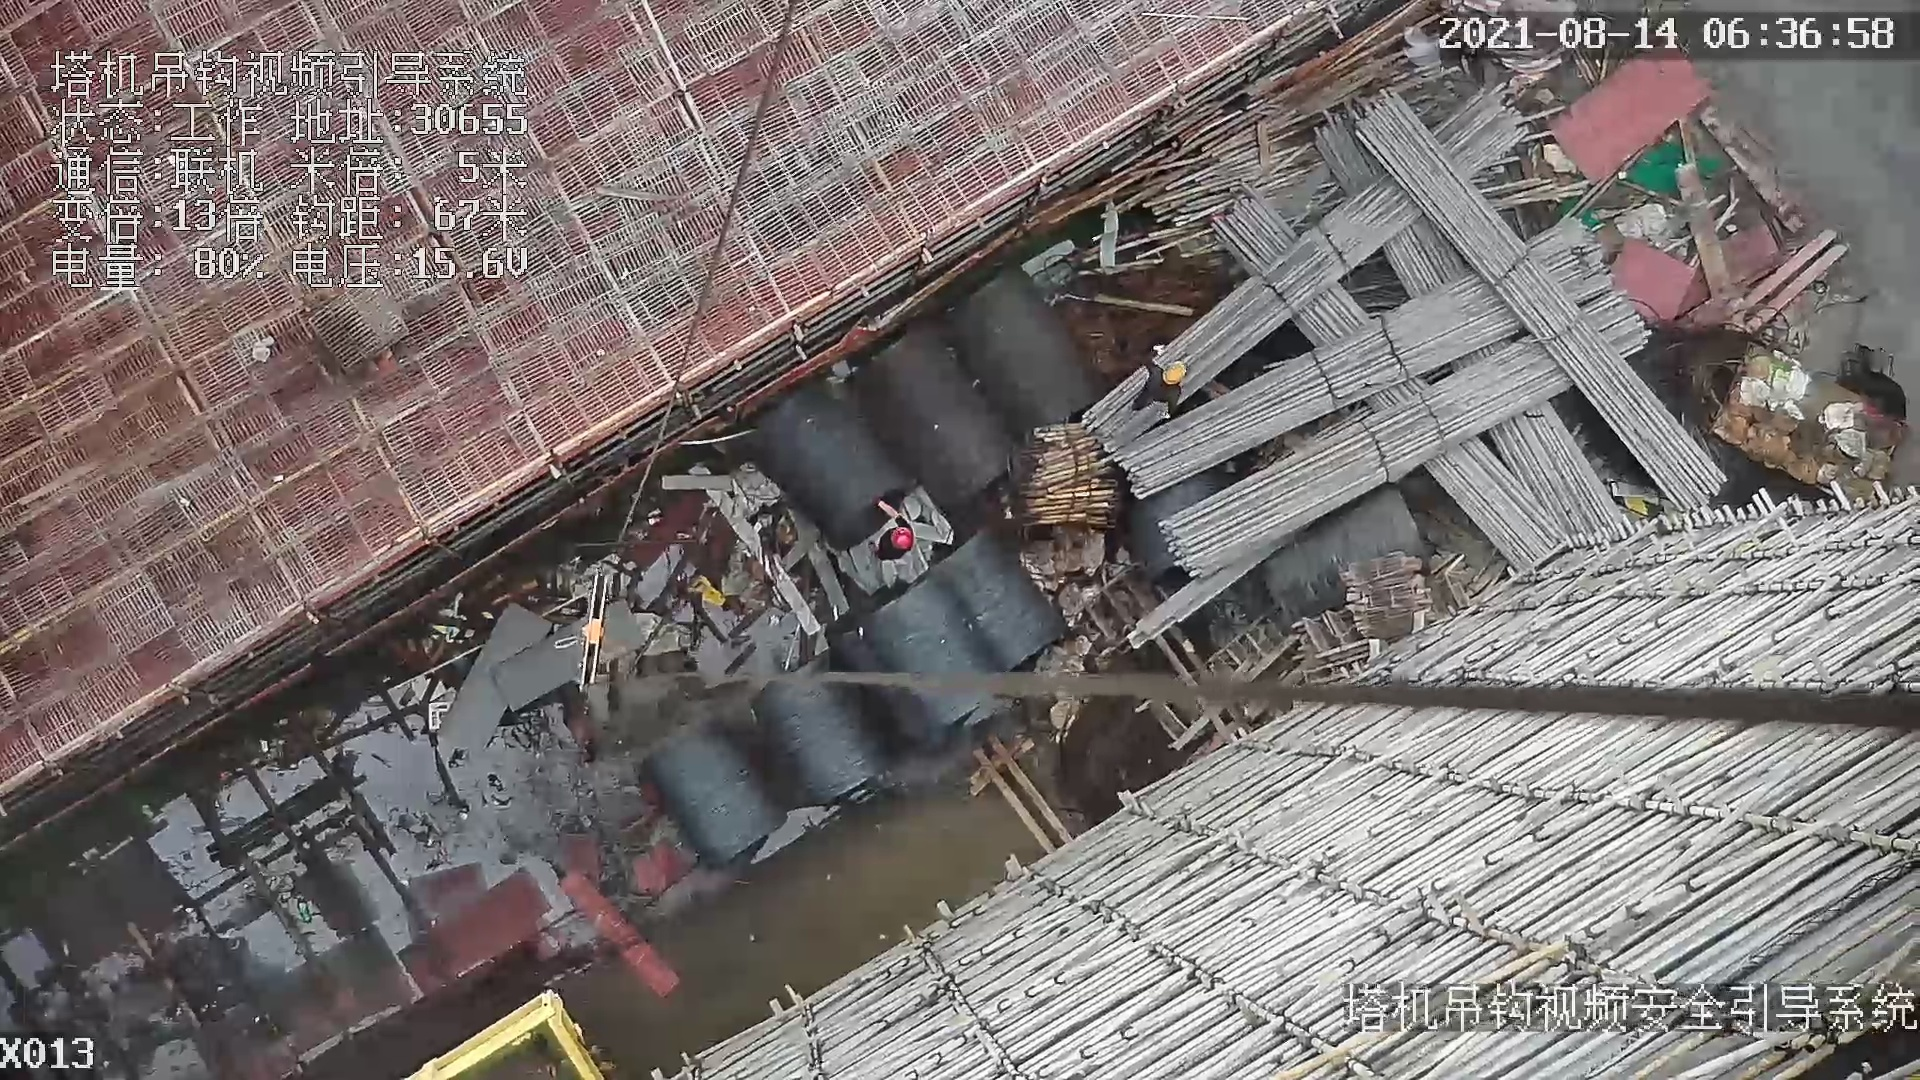helmet: (889, 524, 916, 553), (1162, 359, 1186, 389)
hook: (564, 571, 599, 683)
person: (1137, 346, 1186, 431), (870, 503, 918, 564)
scaffold: (1138, 71, 1732, 604), (994, 413, 1137, 556)
